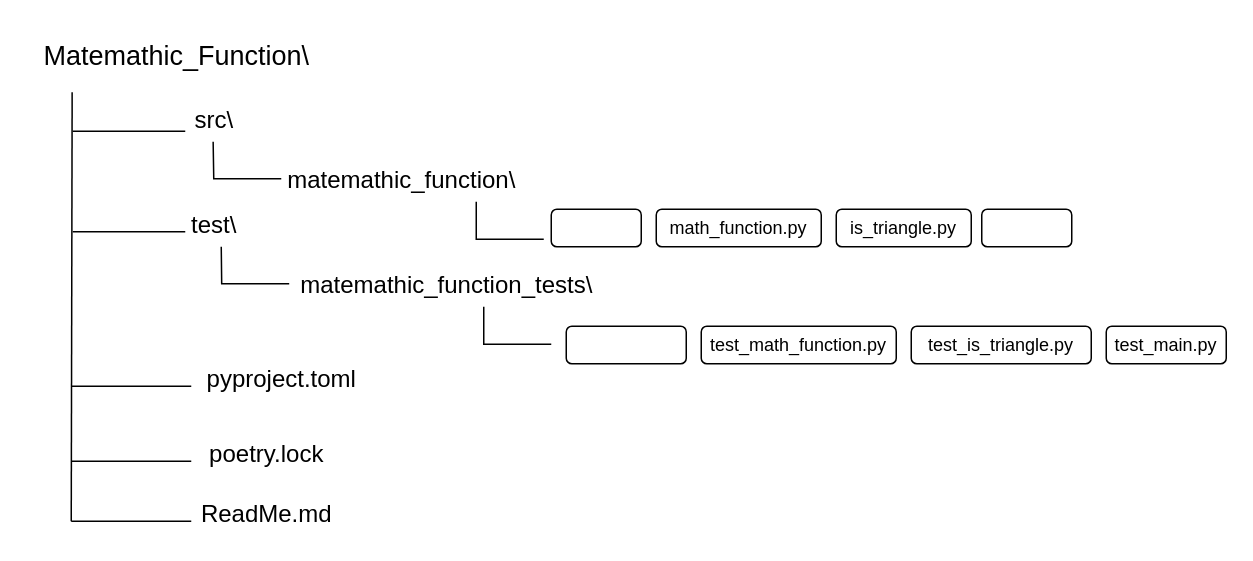
Image size: 1253x561. Some labels were removed from this diagram. The centre of each missing label's shape, as x and y in pixels:
"hello.py" goes at (595,227).
"main.py" goes at (1026,227).
"test_hello.py" goes at (625,344).
